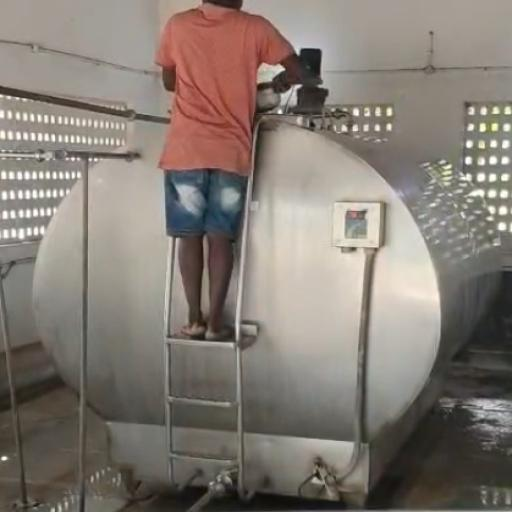silo: (31, 115, 504, 503)
vessel: (257, 81, 281, 112)
